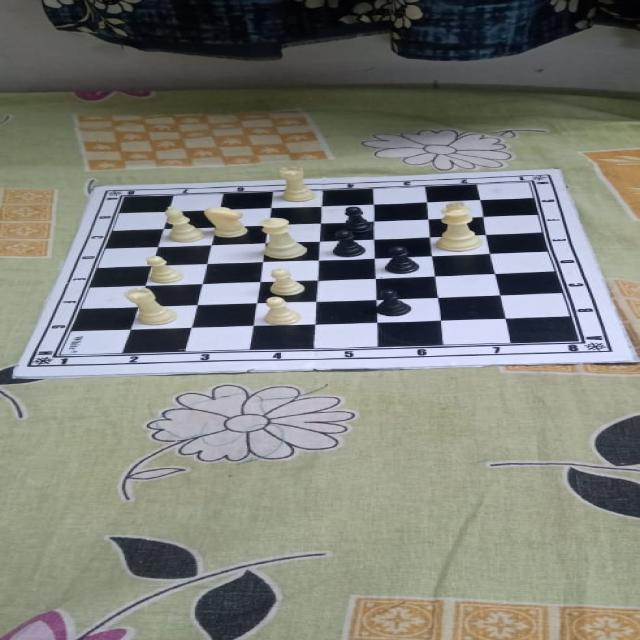corners: (534, 164, 567, 178), (619, 350, 640, 366), (3, 373, 34, 382), (89, 182, 109, 195)
